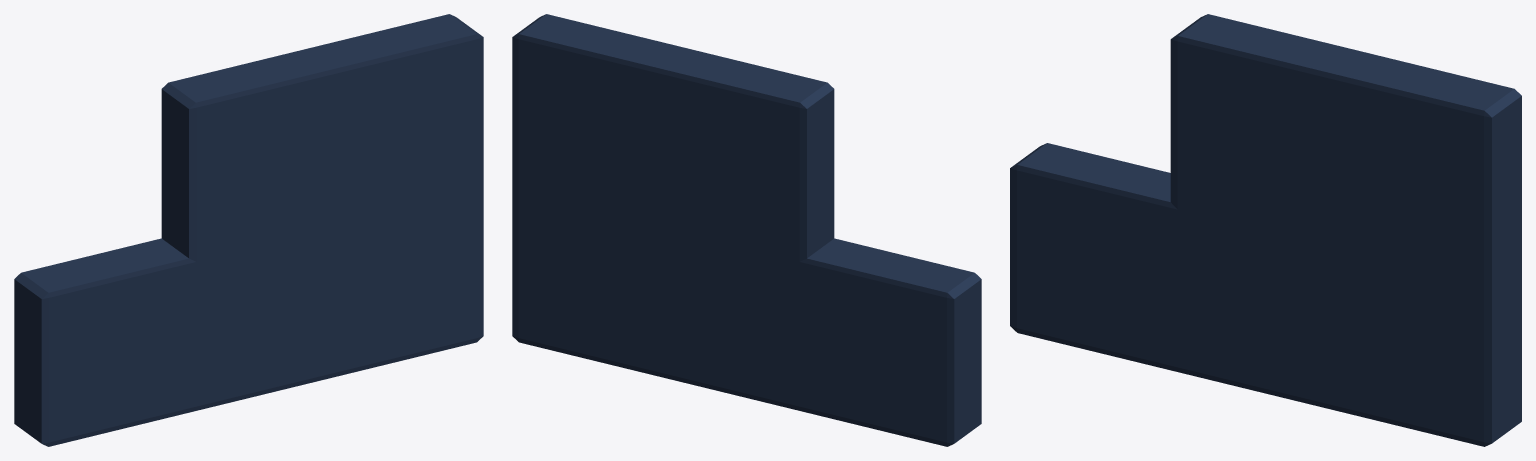
Rendered from 3xObstacle-HullCorner.fbx.
3 renders of one model, left to right at view 1: azimuth 30°, elevation 25°; view 2: azimuth 150°, elevation 25°; view 3: azimuth 330°, elevation 25°, orthographic. The views are drawn at different scales.
Parts seen in each view (by area): view 1: 3xObstacle-HullCorner; view 2: 3xObstacle-HullCorner; view 3: 3xObstacle-HullCorner.
Part boxes in pixels (bbox=[...]): 3xObstacle-HullCorner: bbox=[14, 14, 483, 446]; 3xObstacle-HullCorner: bbox=[512, 14, 981, 446]; 3xObstacle-HullCorner: bbox=[1010, 14, 1521, 446].
Size of the model in its own units: 1800 by 1200 by 200.
